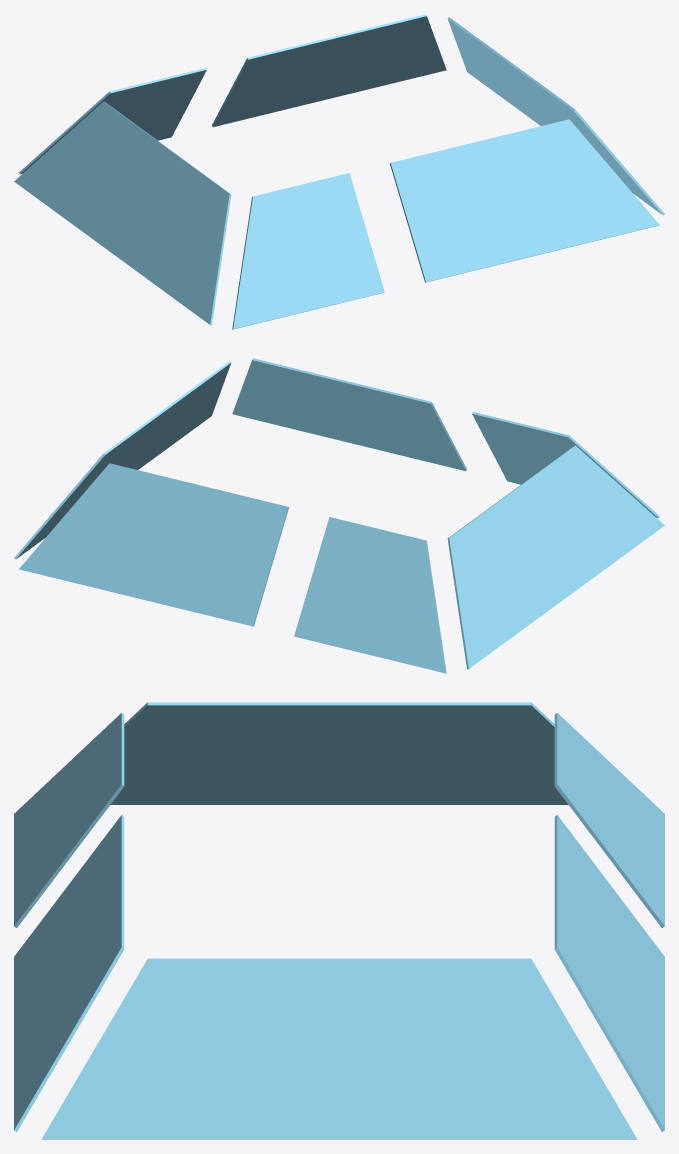
Rendered from Windows.glb.
3 renders of one model, top to bottom at view 1: azimuth 30°, elevation 25°; view 2: azimuth 150°, elevation 25°; view 3: azimuth 270°, elevation 25°, orthographic. The views are drawn at different scales.
Visible parts, largest first — view 1: Cube.102; view 2: Cube.102; view 3: Cube.102.
Part boxes in pixels (x1=…): Cube.102: x1=14, y1=14, x2=664, y2=329; Cube.102: x1=14, y1=358, x2=664, y2=673; Cube.102: x1=14, y1=702, x2=664, y2=1139.
Bounding box in the file's own units: 0.0714 × 0.0142 × 0.0582.
1 material, 1 textured.
